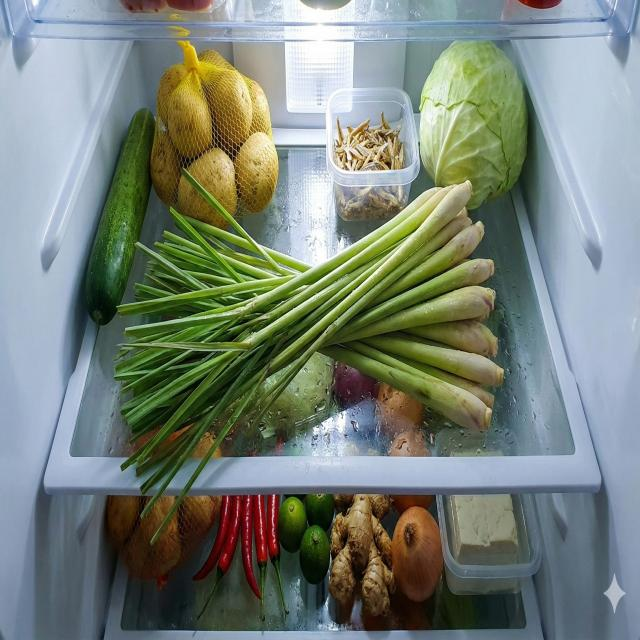anchovies: (332, 109, 406, 223)
cabbage: (419, 38, 528, 211)
chili: (192, 495, 290, 621)
cucumber: (84, 106, 156, 327)
ginger: (328, 491, 397, 618)
lemongrass: (112, 167, 504, 551)
lime: (277, 494, 335, 585)
onion: (392, 506, 445, 604)
potato: (152, 51, 280, 228)
tofu: (446, 495, 520, 593)
